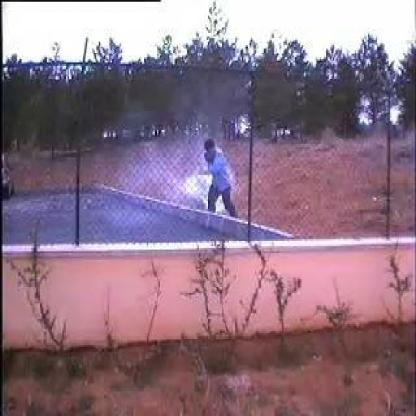-: (136, 164, 212, 216)
